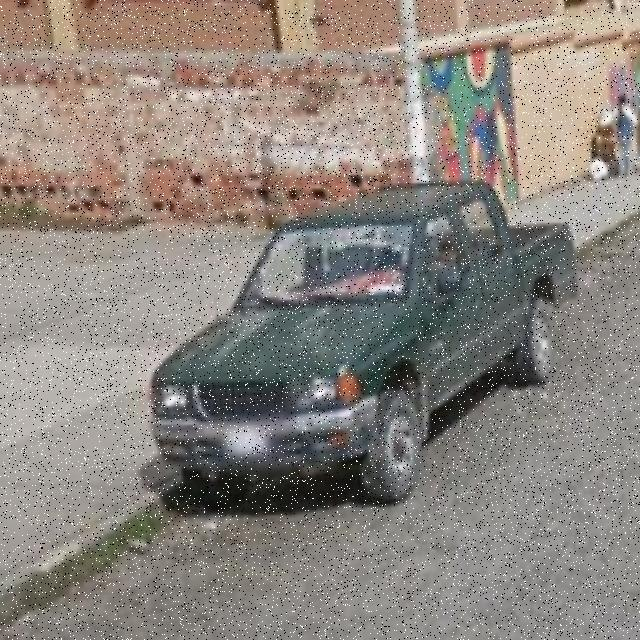cars: (152, 179, 576, 505)
